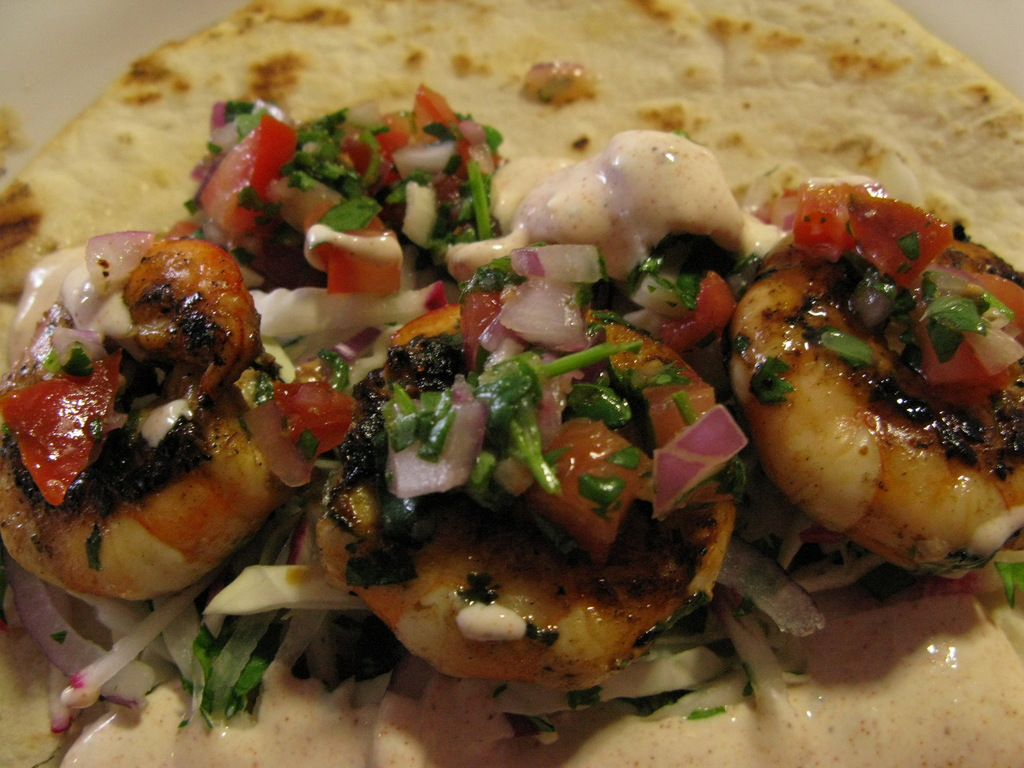taco: (2, 0, 1024, 768)
